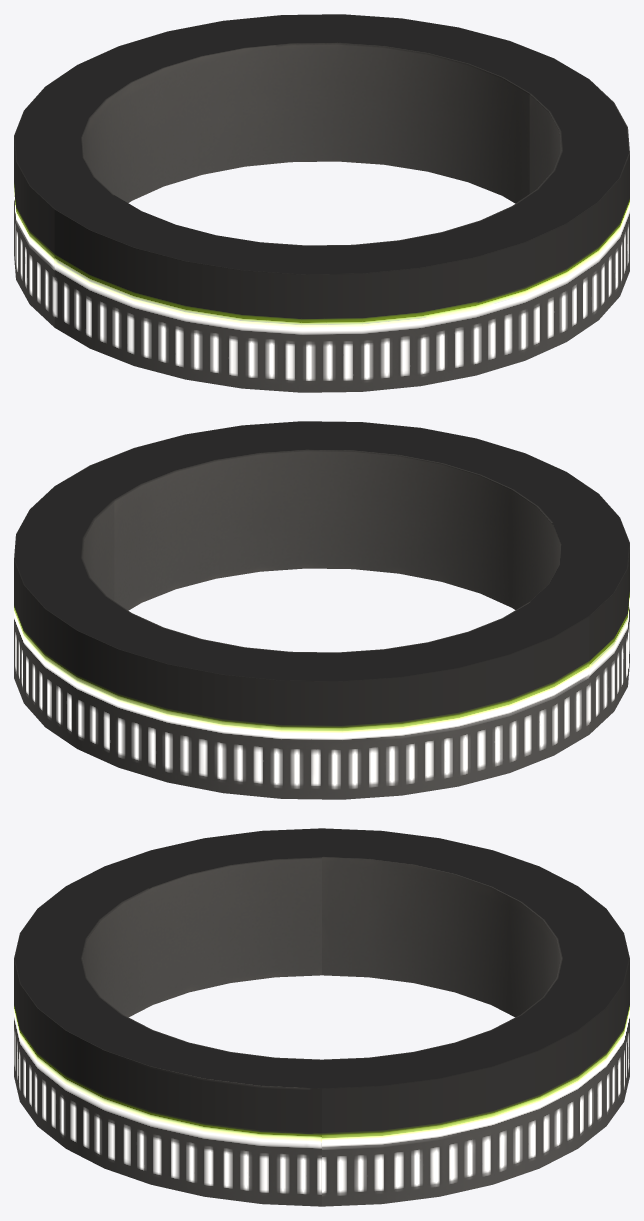
The model's file is ProjectRG_Environment_Sci-Fi_DonutViewingBlock.fbx.
The picture shows the model from 3 angles, top to bottom: view 1: azimuth 30°, elevation 25°; view 2: azimuth 150°, elevation 25°; view 3: azimuth 270°, elevation 25°; orthographic projection.
Parts seen in each view (by area): view 1: ProjectRG_Environment_Sci-Fi_DonutViewingBlock; view 2: ProjectRG_Environment_Sci-Fi_DonutViewingBlock; view 3: ProjectRG_Environment_Sci-Fi_DonutViewingBlock.
Part boxes in pixels (x1=…): ProjectRG_Environment_Sci-Fi_DonutViewingBlock: x1=14, y1=14, x2=629, y2=392; ProjectRG_Environment_Sci-Fi_DonutViewingBlock: x1=14, y1=421, x2=629, y2=799; ProjectRG_Environment_Sci-Fi_DonutViewingBlock: x1=14, y1=828, x2=629, y2=1206.
Size of the model in its own units: 2016 by 426 by 2016.
